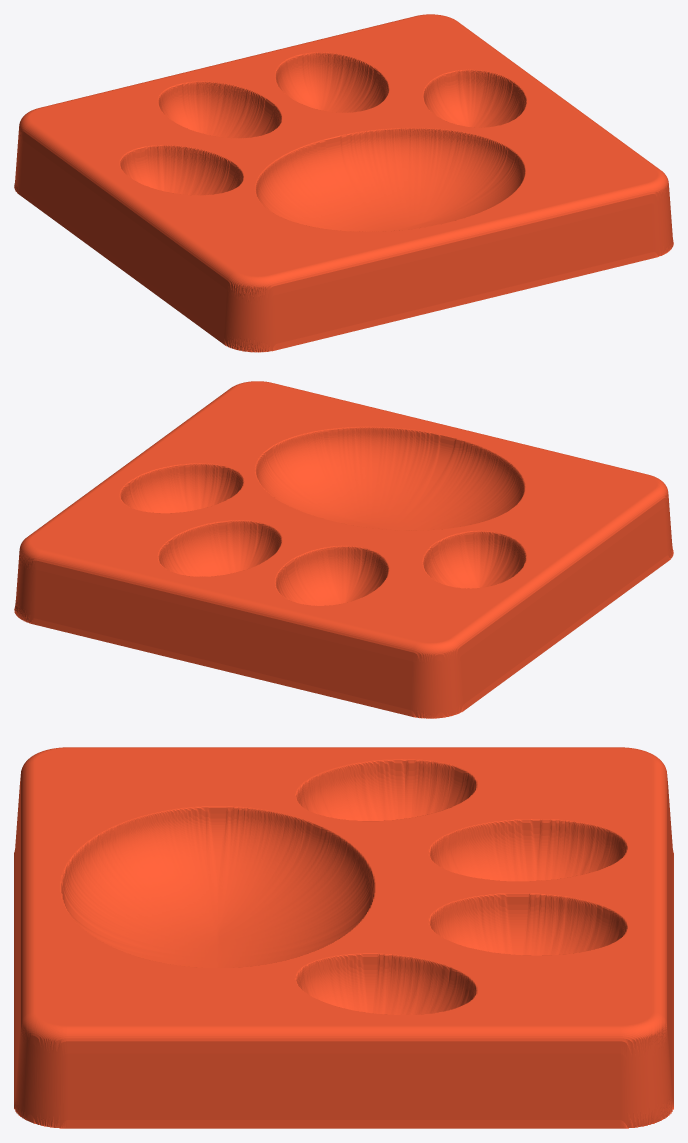
The model's file is mold.glb.
3 views of the same model, one above another, from view 1: azimuth 30°, elevation 25°; view 2: azimuth 150°, elevation 25°; view 3: azimuth 270°, elevation 25° (orthographic). The views are drawn at different scales.
Visible parts, largest first — view 1: geometry_0; view 2: geometry_0; view 3: geometry_0.
Part boxes in pixels (x1,y1,x2,y2): geometry_0: (14,14,673,352); geometry_0: (14,381,673,718); geometry_0: (14,747,673,1128).
Bounding box in the file's own units: 0.1178 × 0.0175 × 0.1114.
